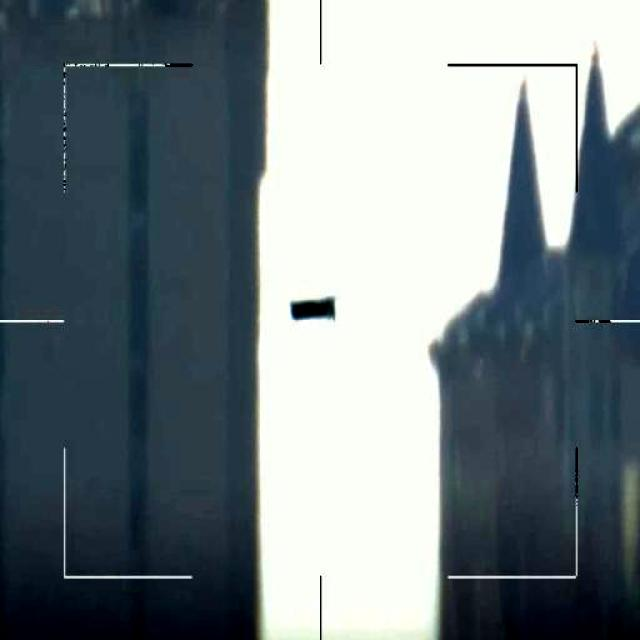bird: (282, 296, 335, 330)
